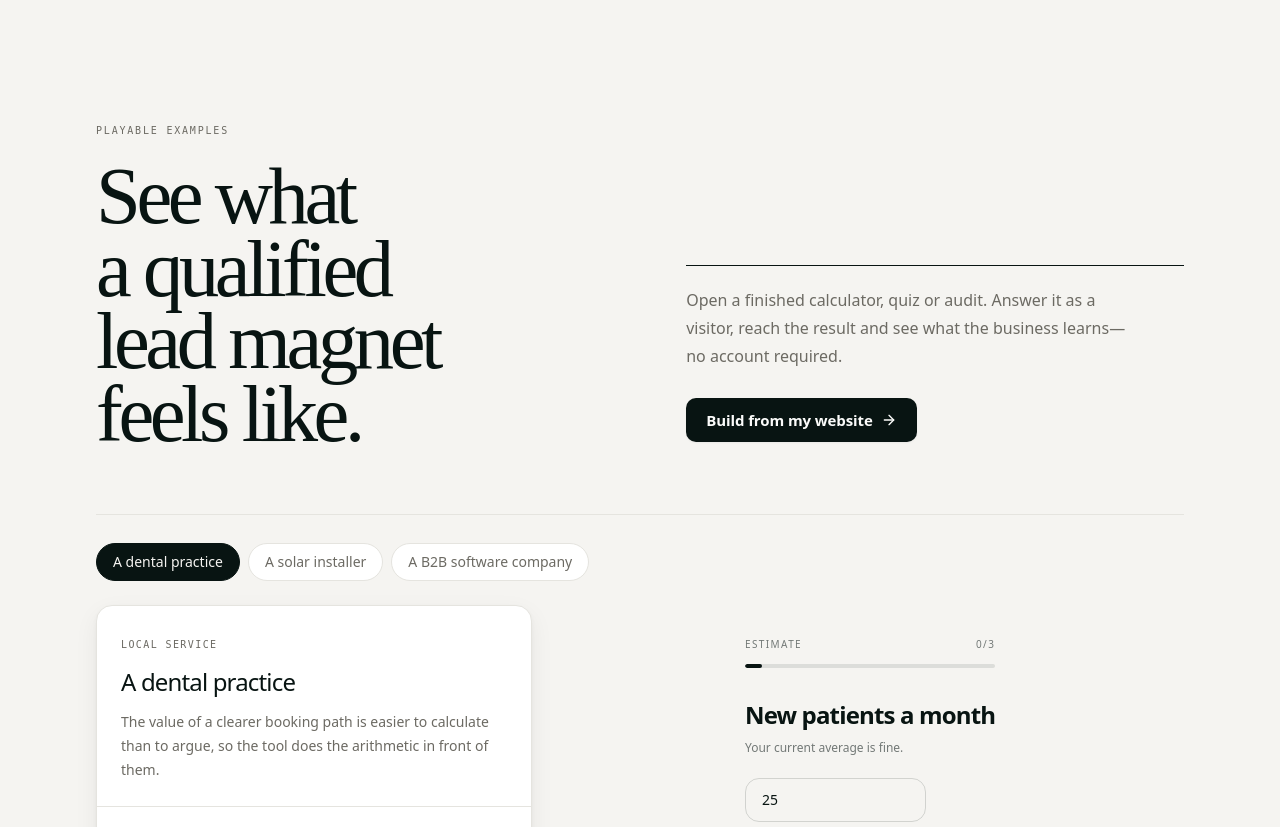
Test: gallery · playable examples › switches to another business on request
Click the tab "A solar installer" at point(316, 562), box [248,543,383,581]
(page scrolled)
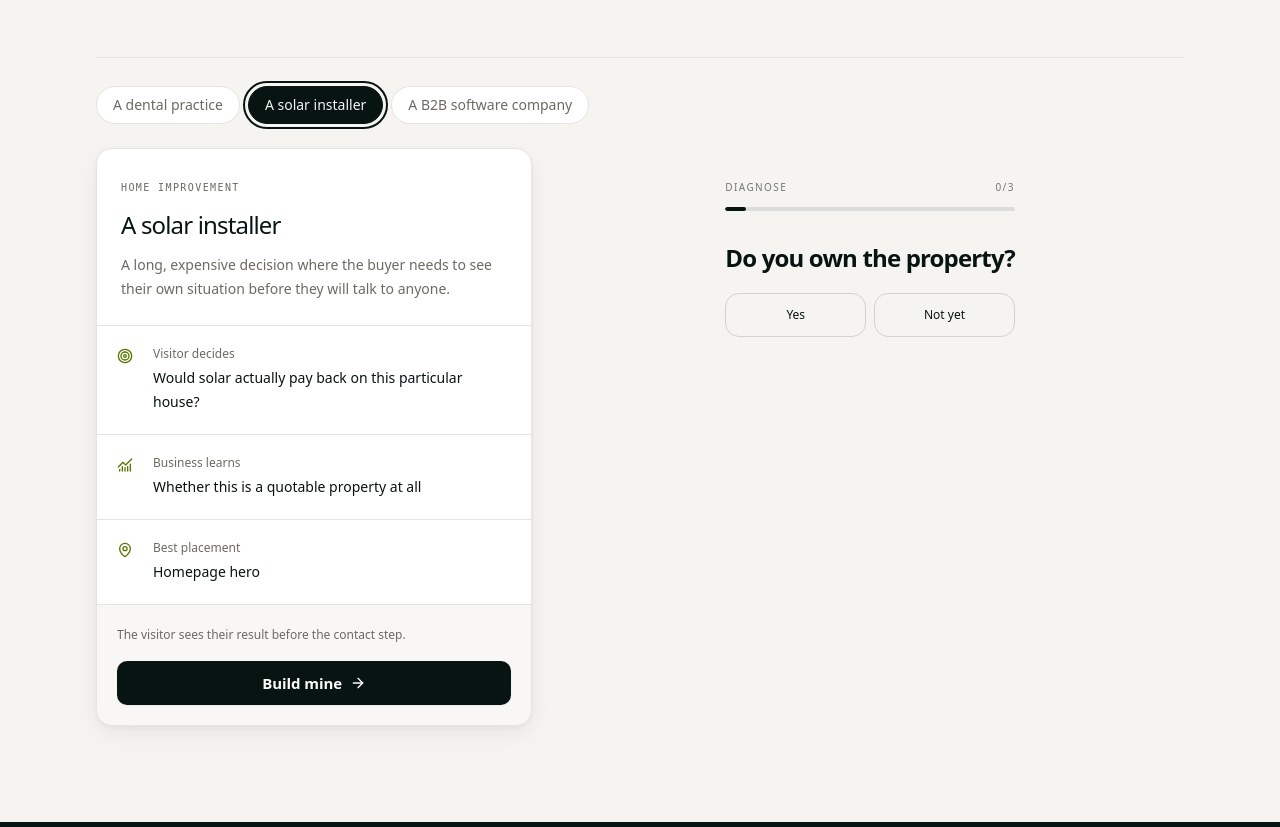
Check: the text "Would solar actually pay back on this particular house?" is shown, box [153,366,511,414]
